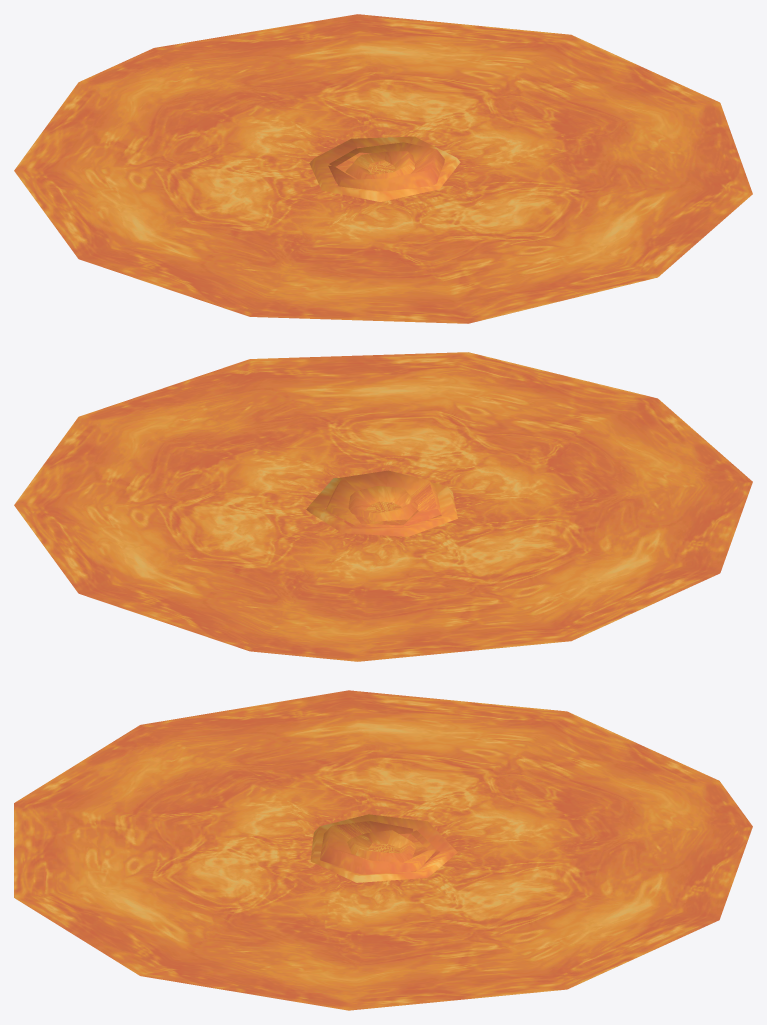
Rendered from LavaTest.gltf.
The picture shows the model from 3 angles, top to bottom: view 1: azimuth 30°, elevation 25°; view 2: azimuth 150°, elevation 25°; view 3: azimuth 270°, elevation 25°; orthographic projection. The views are drawn at different scales.
Visible parts, largest first — view 1: stg030_surface_35_Mesh_0; view 2: stg030_surface_35_Mesh_0; view 3: stg030_surface_35_Mesh_0.
Part boxes in pixels (x1=…): stg030_surface_35_Mesh_0: x1=14, y1=14, x2=752, y2=323; stg030_surface_35_Mesh_0: x1=14, y1=352, x2=752, y2=661; stg030_surface_35_Mesh_0: x1=14, y1=690, x2=752, y2=1010.
Bounding box in the file's own units: 81.75 × 6.81 × 79.7.
Materials: 1 (1 with a texture image).
